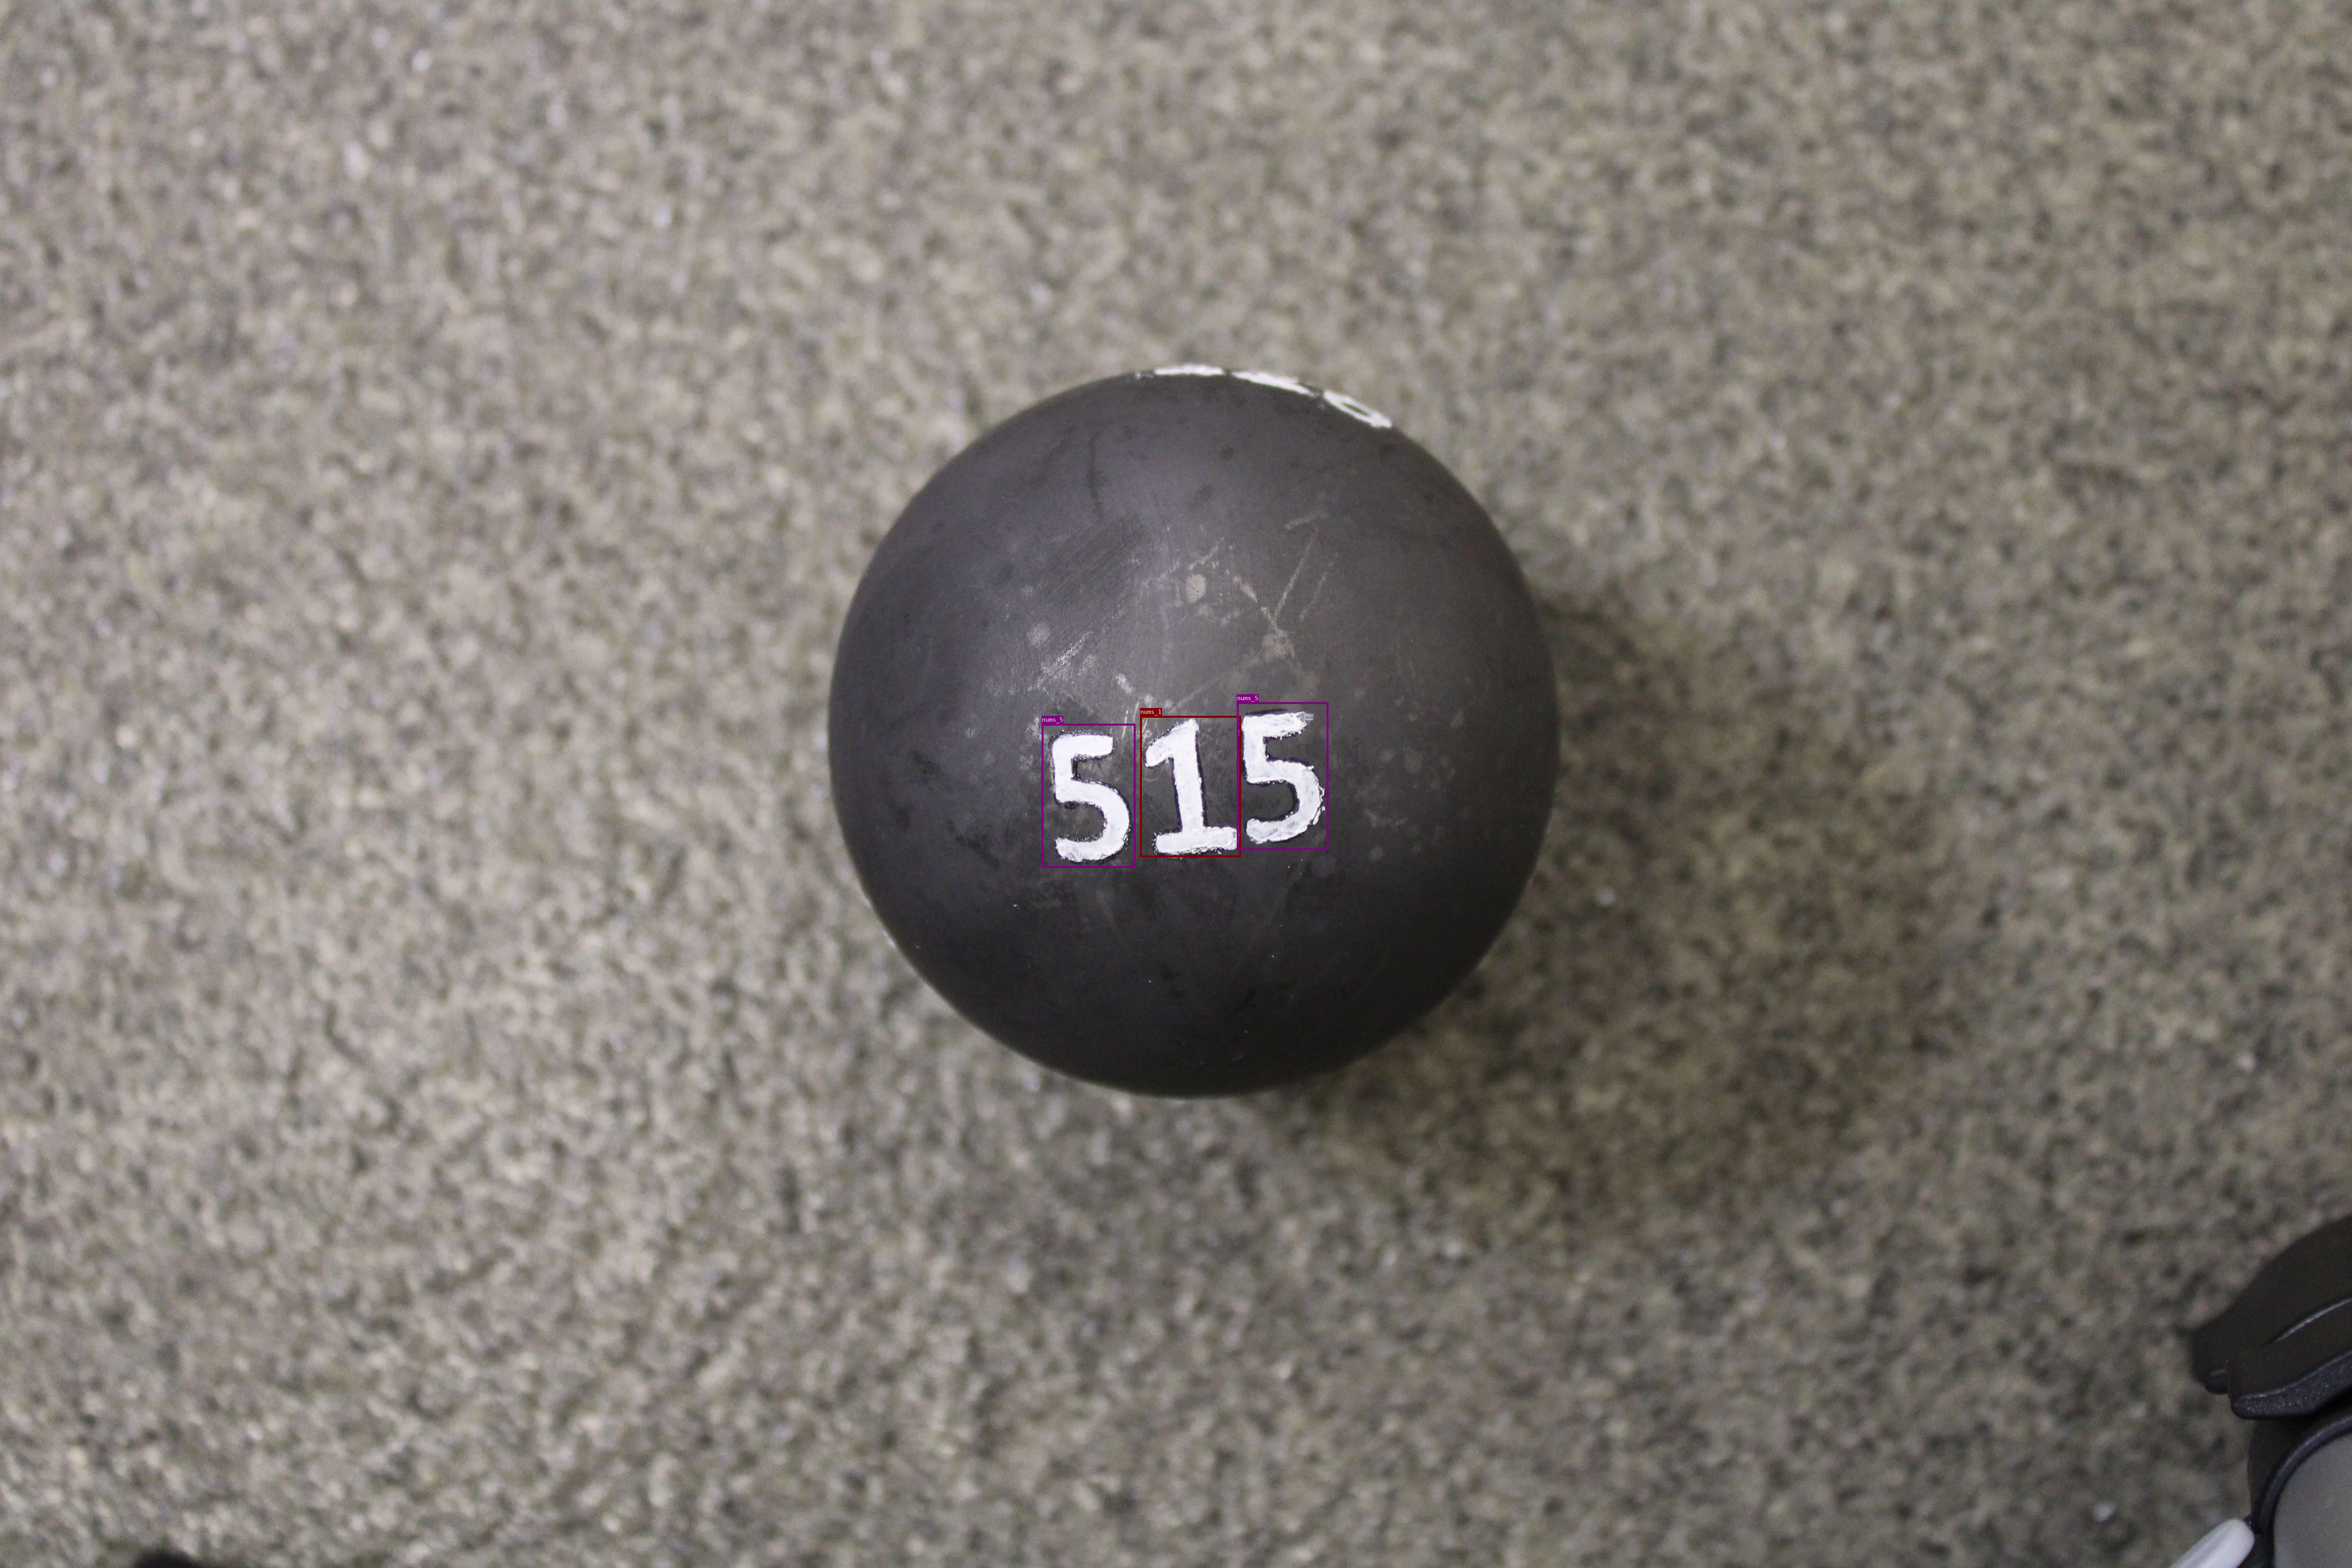nums_1: (1139, 716, 1241, 857)
nums_5: (1041, 724, 1136, 868), (1237, 702, 1328, 851)
